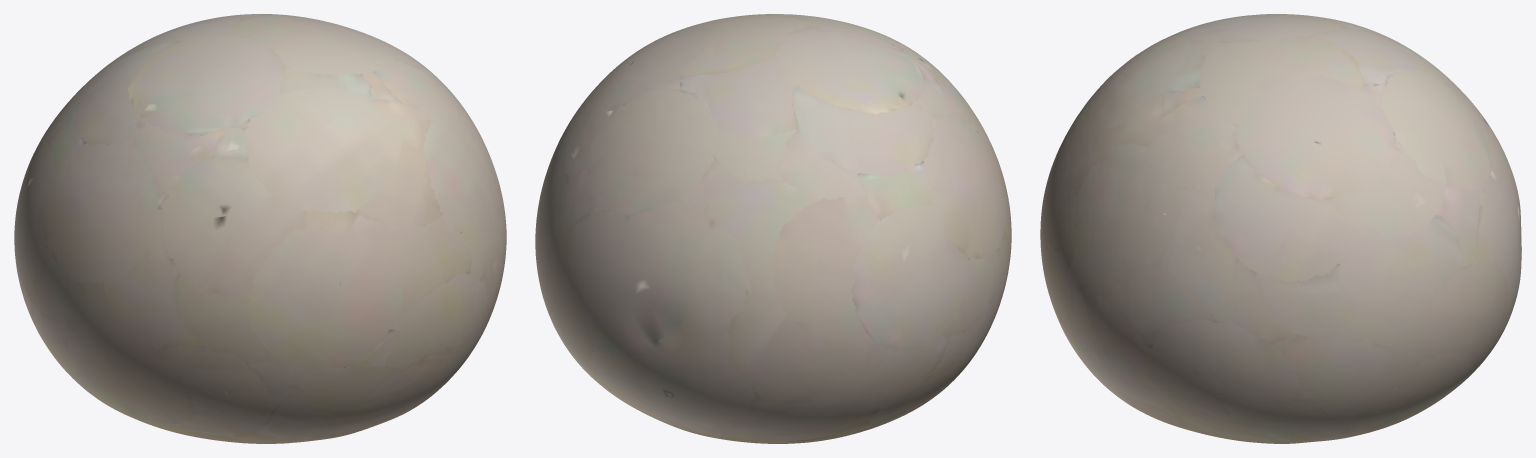
File: dough.glb
3 views of the same model, side by side, from view 1: azimuth 30°, elevation 25°; view 2: azimuth 150°, elevation 25°; view 3: azimuth 270°, elevation 25° (orthographic).
Parts seen in each view (by area): view 1: convert; view 2: convert; view 3: convert.
Part boxes in pixels (x1,y1,x2,y2): convert: (14,14,506,443); convert: (535,14,1011,443); convert: (1040,14,1521,443).
Bounding box in the file's own units: 1.13 × 0.9055 × 1.13.
Materials: 1 (1 with a texture image).
